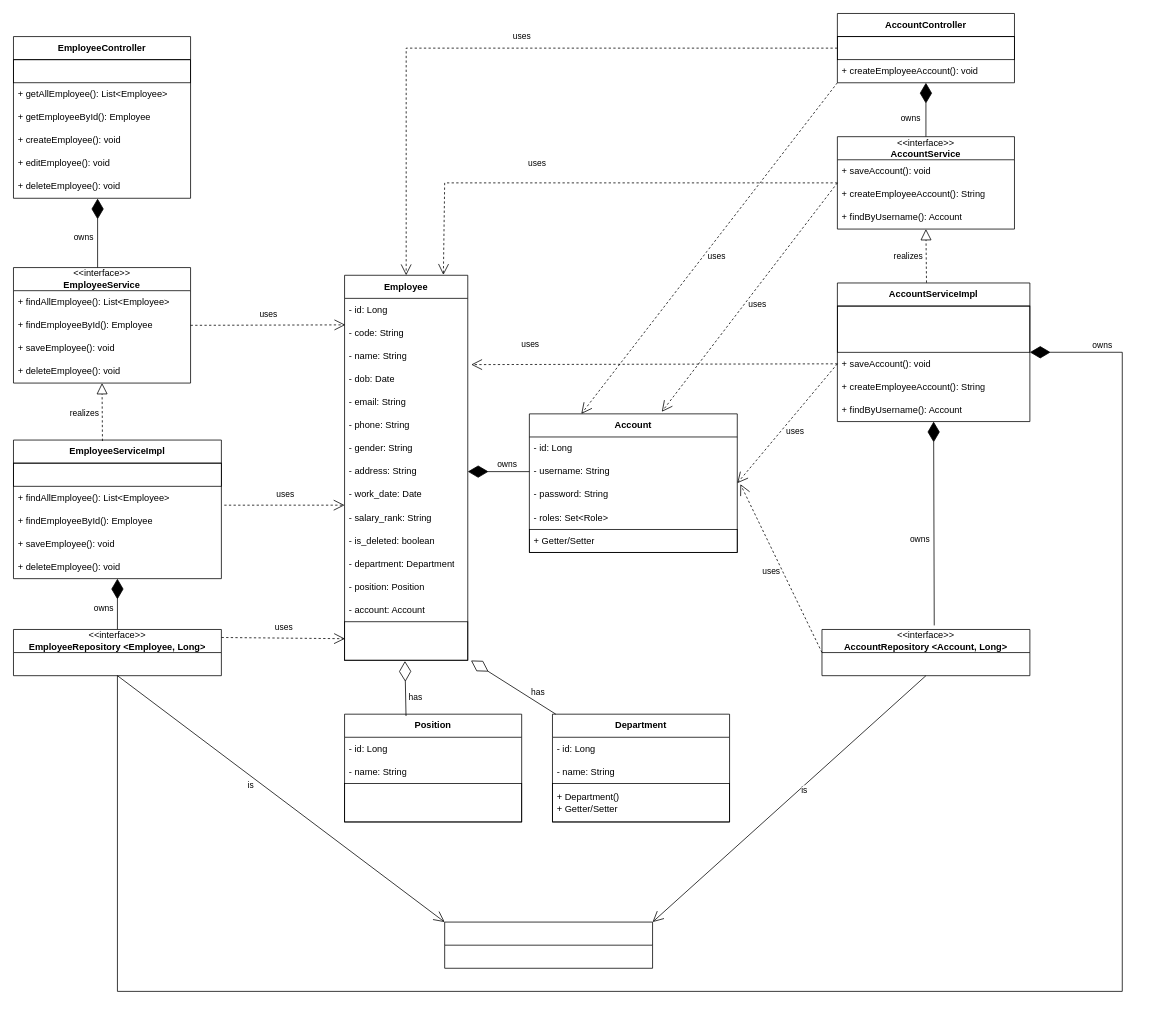
Image size: 1156x1025. Some labels were removed from this diagram. The shapes that lost their labels are listed below. From the top down, each one's centre as x and y in pixels, then its label:
At point 925,48: "- accountService: AccountService".
At point 102,71: "- employeeService: EmployeeService".
At point 933,328: "- accountRepository: AccountRepository - employeeRepository: EmployeeRepository".
At point 117,474: "- employeeRepository: EmployeeRepository".
At point 406,640: "+ Employee() + Getter/Setter".
At point 433,802: "+ Position() + Getter/Setter".
At point 548,944: "<<interface>> JpaRepository".
